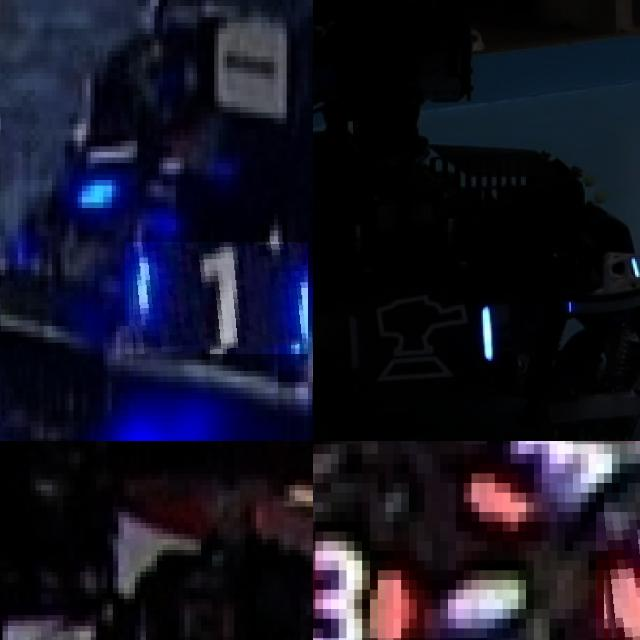B1: (125, 242, 308, 354)
Bs: (342, 290, 497, 389)
R3: (313, 531, 409, 640), (596, 512, 640, 640)
